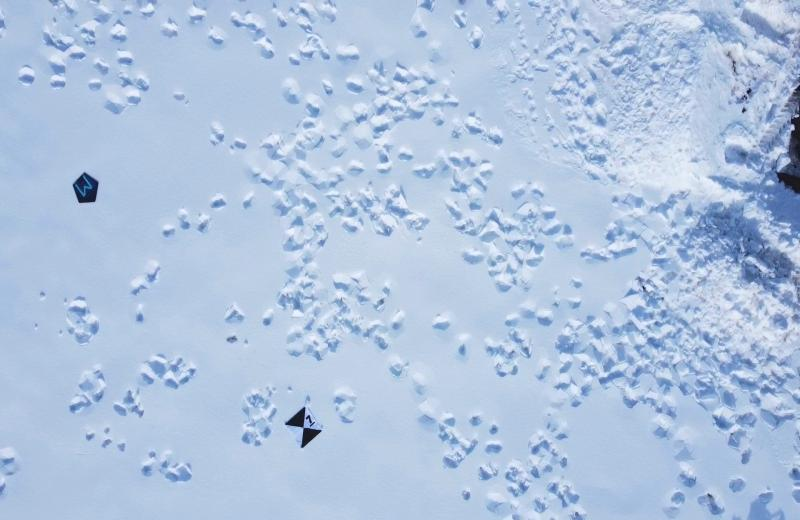Pentagon: (68, 168, 102, 207)
